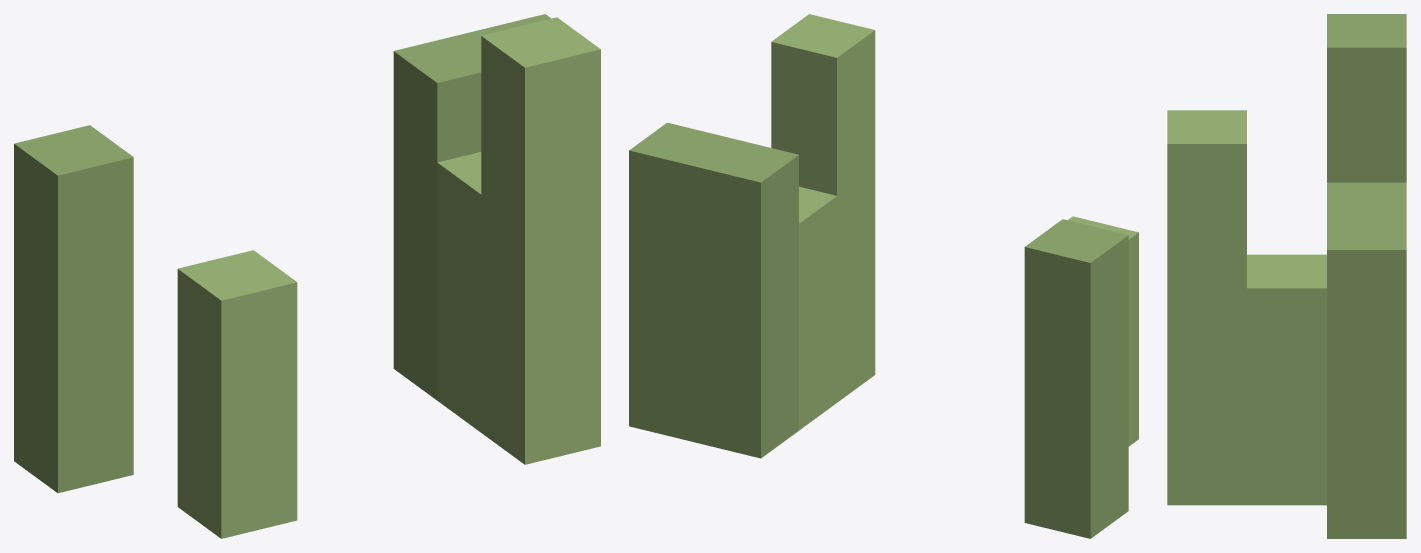
Rendered from hierba_alta_03.glb.
The picture shows the model from 3 angles, left to right: view 1: azimuth 30°, elevation 25°; view 2: azimuth 150°, elevation 25°; view 3: azimuth 270°, elevation 25°; orthographic projection. The views are drawn at different scales.
Visible parts, largest first — view 1: hierba_alta_03; view 2: hierba_alta_03; view 3: hierba_alta_03.
Boxes of the visible parts, x1,y1,x2,y2 form: hierba_alta_03: [14, 14, 600, 538]; hierba_alta_03: [629, 14, 1138, 538]; hierba_alta_03: [1167, 14, 1406, 538].
Bounding box in the file's own units: 0.7 × 0.5 × 0.3.
